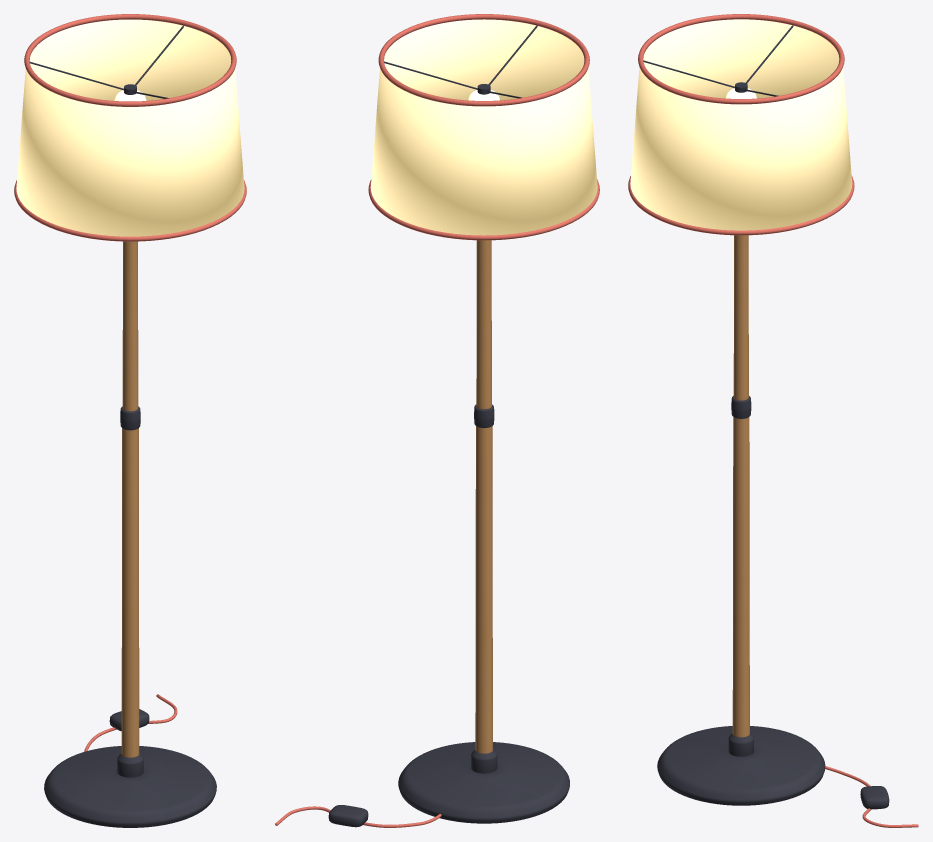
The model's file is floor-lamp.glb.
The picture shows the model from 3 angles, left to right: view 1: azimuth 30°, elevation 25°; view 2: azimuth 150°, elevation 25°; view 3: azimuth 270°, elevation 25°; orthographic projection. The views are drawn at different scales.
Visible parts, largest first — view 1: floor-lamp_shade_glow, floor-lamp_body; view 2: floor-lamp_shade_glow, floor-lamp_body; view 3: floor-lamp_shade_glow, floor-lamp_body.
Part boxes in pixels (x1,y1,x2,y2): floor-lamp_shade_glow: (16, 19, 244, 236); floor-lamp_body: (14, 14, 246, 827); floor-lamp_shade_glow: (370, 19, 597, 235); floor-lamp_body: (275, 14, 599, 827); floor-lamp_shade_glow: (630, 19, 852, 230); floor-lamp_body: (628, 14, 918, 827).
Size of the model in its own units: 0.5066 by 1.61 by 0.5919.
Materials: 3 (1 with a texture image).
